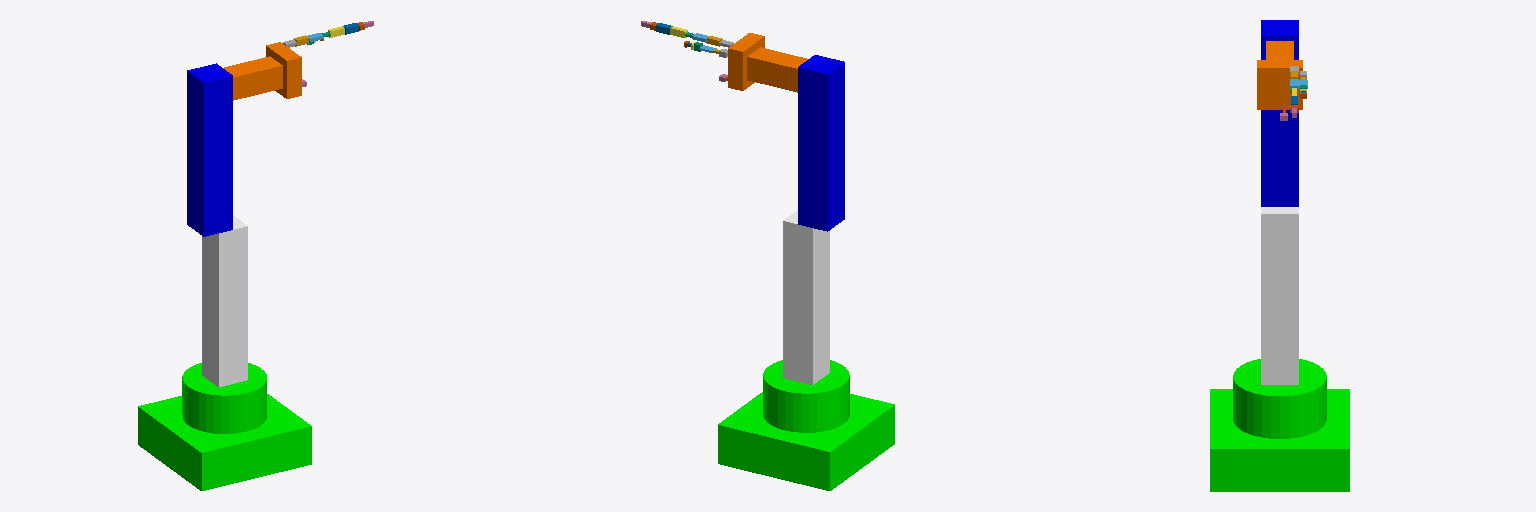
robot.urdf — robot:
<?xml version='1.0' encoding='utf-8'?>
<robot name="robot">
  <link name="base_link">
    <visual>
      <origin xyz="0 0 0.125" rpy="0 0 0" />
      <geometry>
        <box size="0.75 0.75 0.25" />
      </geometry>
      <material name="green" />
    </visual>
    <visual>
      <origin xyz="0 0 0.375" rpy="0 0 0" />
      <geometry>
        <cylinder length="0.25" radius="0.25" />
      </geometry>
      <material name="green">
        <color rgba="0 1 0 1" />
      </material>
    </visual>
    <collision>
      <geometry>
        <box size="0.75 0.75 0.5" />
      </geometry>
    </collision>
    <inertial>
      <mass value="0.5" />
      <inertia ixx="0.034" ixy="0.0" ixz="0.0" iyy="0.034" iyz="0.0" izz="0.034" />
    </inertial>
  </link>
  <link name="support_link">
    <visual>
      <origin xyz="0 0 0.5" rpy="0 0 0" />
      <geometry>
        <box size="0.2 0.2 1" />
      </geometry>
      <material name="white">
        <color rgba="1 1 1 1" />
      </material>
    </visual>
    <collision>
      <geometry>
        <box size="0.2 0.2 1" />
      </geometry>
    </collision>
    <inertial>
      <mass value="0.1" />
      <inertia ixx="0.01" ixy="0.0" ixz="0.0" iyy="0.01" iyz="0.0" izz="0.01" />
    </inertial>
  </link>
  <joint name="support_joint" type="continuous">
    <origin xyz="0 0 0.5" rpy="0 0 0" />
    <parent link="base_link" />
    <child link="support_link" />
    <axis xyz="0 0 1" />
  </joint>
  <link name="arm_link">
    <visual>
      <origin xyz="0 0 0.5" rpy="0 0 0" />
      <geometry>
        <box size="0.2 0.2 1" />
      </geometry>
      <material name="blue">
        <color rgba="0 0 1 1" />
      </material>
    </visual>
    <collision>
      <geometry>
        <box size="0.2 0.2 1" />
      </geometry>
    </collision>
    <inertial>
      <mass value="0.1" />
      <inertia ixx="0.01" ixy="0.0" ixz="0.0" iyy="0.01" iyz="0.0" izz="0.01" />
    </inertial>
  </link>
  <joint name="arm_joint" type="revolute">
    <origin xyz="-0.1 0 1" rpy="0 0 0" />
    <parent link="support_link" />
    <child link="arm_link" />
    <axis xyz="0 1 0" />
    <limit lower="-3.14" upper="3.14" effort="1.0" velocity="1.0" />
  </joint>
  <link name="wrist_link">
    <visual>
      <origin xyz="0 0 0.25" rpy="0 0 0" />
      <geometry>
        <box size="0.15 0.15 0.5" />
      </geometry>
      <material name="orange">
        <color rgba="1 0.5 0 1" />
      </material>
    </visual>
    <collision>
      <geometry>
        <box size="0.15 0.15 0.5" />
      </geometry>
    </collision>
    <inertial>
      <mass value="0.1" />
      <inertia ixx="0.01" ixy="0.0" ixz="0.0" iyy="0.01" iyz="0.0" izz="0.01" />
    </inertial>
  </link>
  <joint name="wrist_joint" type="fixed">
    <origin xyz="0 0 0.9" rpy="0 1.571 0" />
    <parent link="arm_link" />
    <child link="wrist_link" />
  </joint>
  <link name="palm_link">
    <visual>
      <origin xyz="0 0 0.05" rpy="0 0 0" />
      <geometry>
        <box size="0.25 0.25 0.1" />
      </geometry>
      <material name="orange" />
    </visual>
    <collision>
      <geometry>
        <box size="0.25 0.25 0.1" />
      </geometry>
    </collision>
    <inertial>
      <mass value="0.1" />
      <inertia ixx="0.01" ixy="0.0" ixz="0.0" iyy="0.01" iyz="0.0" izz="0.01" />
    </inertial>
  </link>
  <joint name="palm_joint" type="fixed">
    <origin xyz="0 0 0.45" rpy="0 0 0" />
    <parent link="wrist_link" />
    <child link="palm_link" />
  </joint>
  <link name="finger_link_0_0">
    <visual>
      <origin xyz="0 0 0.034" rpy="0 0 0" />
      <geometry>
        <box size="0.015 0.018 0.068" />
      </geometry>
    </visual>
    <collision>
      <geometry>
        <box size="0.015 0.018 0.068" />
      </geometry>
    </collision>
    <inertial>
      <mass value="0.006" />
      <inertia ixx="0.0" iyy="0.0" izz="0.0" ixy="0" ixz="0" iyz="0" />
    </inertial>
  </link>
  <joint name="finger_joint_palm_link_to_finger_link_0_0" type="revolute">
    <origin xyz="0.125 0.023 0.1" rpy="0 0 0" />
    <parent link="palm_link" />
    <child link="finger_link_0_0" />
    <axis xyz="0.0 1.0 0.0" />
    <limit lower="-3.142" upper="3.142" effort="10" velocity="10" />
  </joint>
  <link name="finger_link_0_1">
    <visual>
      <origin xyz="0 0 0.019" rpy="0 0 0" />
      <geometry>
        <box size="0.029 0.043 0.038" />
      </geometry>
    </visual>
    <collision>
      <geometry>
        <box size="0.029 0.043 0.038" />
      </geometry>
    </collision>
    <inertial>
      <mass value="0.014" />
      <inertia ixx="0.0" iyy="0.0" izz="0.0" ixy="0" ixz="0" iyz="0" />
    </inertial>
  </link>
  <joint name="finger_joint_finger_link_0_0_to_finger_link_0_1" type="revolute">
    <origin xyz="0.0 0.0 0.068" rpy="0 0 0" />
    <parent link="finger_link_0_0" />
    <child link="finger_link_0_1" />
    <axis xyz="1.0 0.0 0.0" />
    <limit lower="-3.142" upper="3.142" effort="10" velocity="10" />
  </joint>
  <link name="finger_link_1_0">
    <visual>
      <origin xyz="0 0 0.0365" rpy="0 0 0" />
      <geometry>
        <box size="0.018 0.044 0.073" />
      </geometry>
    </visual>
    <collision>
      <geometry>
        <box size="0.018 0.044 0.073" />
      </geometry>
    </collision>
    <inertial>
      <mass value="0.017" />
      <inertia ixx="0.0" iyy="0.0" izz="0.0" ixy="0" ixz="0" iyz="0" />
    </inertial>
  </link>
  <joint name="finger_joint_palm_link_to_finger_link_1_0" type="revolute">
    <origin xyz="-0.125 0.077 0.1" rpy="0 0 0" />
    <parent link="palm_link" />
    <child link="finger_link_1_0" />
    <axis xyz="0.0 -1.0 0.0" />
    <limit lower="-3.142" upper="3.142" effort="10" velocity="10" />
  </joint>
  <link name="finger_link_1_1">
    <visual>
      <origin xyz="0 0 0.042" rpy="0 0 0" />
      <geometry>
        <box size="0.035 0.037 0.084" />
      </geometry>
    </visual>
    <collision>
      <geometry>
        <box size="0.035 0.037 0.084" />
      </geometry>
    </collision>
    <inertial>
      <mass value="0.033" />
      <inertia ixx="0.0" iyy="0.0" izz="0.0" ixy="0" ixz="0" iyz="0" />
    </inertial>
  </link>
  <joint name="finger_joint_finger_link_1_0_to_finger_link_1_1" type="revolute">
    <origin xyz="0.0 0.0 0.073" rpy="0 0 0" />
    <parent link="finger_link_1_0" />
    <child link="finger_link_1_1" />
    <axis xyz="0.0 1.0 0.0" />
    <limit lower="-3.142" upper="3.142" effort="10" velocity="10" />
  </joint>
  <link name="finger_link_1_2">
    <visual>
      <origin xyz="0 0 0.0475" rpy="0 0 0" />
      <geometry>
        <box size="0.021 0.048 0.095" />
      </geometry>
    </visual>
    <collision>
      <geometry>
        <box size="0.021 0.048 0.095" />
      </geometry>
    </collision>
    <inertial>
      <mass value="0.029" />
      <inertia ixx="0.0" iyy="0.0" izz="0.0" ixy="0" ixz="0" iyz="0" />
    </inertial>
  </link>
  <joint name="finger_joint_finger_link_1_1_to_finger_link_1_2" type="revolute">
    <origin xyz="0.0 0.0 0.084" rpy="0 0 0" />
    <parent link="finger_link_1_1" />
    <child link="finger_link_1_2" />
    <axis xyz="0.0 1.0 0.0" />
    <limit lower="-3.142" upper="3.142" effort="10" velocity="10" />
  </joint>
  <link name="finger_link_1_3">
    <visual>
      <origin xyz="0 0 0.0255" rpy="0 0 0" />
      <geometry>
        <box size="0.013 0.032 0.051" />
      </geometry>
    </visual>
    <collision>
      <geometry>
        <box size="0.013 0.032 0.051" />
      </geometry>
    </collision>
    <inertial>
      <mass value="0.006" />
      <inertia ixx="0.0" iyy="0.0" izz="0.0" ixy="0" ixz="0" iyz="0" />
    </inertial>
  </link>
  <joint name="finger_joint_finger_link_1_2_to_finger_link_1_3" type="revolute">
    <origin xyz="0.0 0.0 0.095" rpy="0 0 0" />
    <parent link="finger_link_1_2" />
    <child link="finger_link_1_3" />
    <axis xyz="1.0 0.0 0.0" />
    <limit lower="-3.142" upper="3.142" effort="10" velocity="10" />
  </joint>
  <link name="finger_link_1_4">
    <visual>
      <origin xyz="0 0 0.05" rpy="0 0 0" />
      <geometry>
        <box size="0.043 0.028 0.1" />
      </geometry>
    </visual>
    <collision>
      <geometry>
        <box size="0.043 0.028 0.1" />
      </geometry>
    </collision>
    <inertial>
      <mass value="0.036" />
      <inertia ixx="0.0" iyy="0.0" izz="0.0" ixy="0" ixz="0" iyz="0" />
    </inertial>
  </link>
  <joint name="finger_joint_finger_link_1_3_to_finger_link_1_4" type="revolute">
    <origin xyz="0.0 0.0 0.051" rpy="0 0 0" />
    <parent link="finger_link_1_3" />
    <child link="finger_link_1_4" />
    <axis xyz="1.0 0.0 0.0" />
    <limit lower="-3.142" upper="3.142" effort="10" velocity="10" />
  </joint>
  <link name="finger_link_1_5">
    <visual>
      <origin xyz="0 0 0.047" rpy="0 0 0" />
      <geometry>
        <box size="0.041 0.041 0.094" />
      </geometry>
    </visual>
    <collision>
      <geometry>
        <box size="0.041 0.041 0.094" />
      </geometry>
    </collision>
    <inertial>
      <mass value="0.047" />
      <inertia ixx="0.0" iyy="0.0" izz="0.0" ixy="0" ixz="0" iyz="0" />
    </inertial>
  </link>
  <joint name="finger_joint_finger_link_1_4_to_finger_link_1_5" type="revolute">
    <origin xyz="0.0 0.0 0.1" rpy="0 0 0" />
    <parent link="finger_link_1_4" />
    <child link="finger_link_1_5" />
    <axis xyz="0.0 1.0 0.0" />
    <limit lower="-3.142" upper="3.142" effort="10" velocity="10" />
  </joint>
  <link name="finger_link_1_6">
    <visual>
      <origin xyz="0 0 0.02" rpy="0 0 0" />
      <geometry>
        <box size="0.031 0.044 0.04" />
      </geometry>
    </visual>
    <collision>
      <geometry>
        <box size="0.031 0.044 0.04" />
      </geometry>
    </collision>
    <inertial>
      <mass value="0.016" />
      <inertia ixx="0.0" iyy="0.0" izz="0.0" ixy="0" ixz="0" iyz="0" />
    </inertial>
  </link>
  <joint name="finger_joint_finger_link_1_5_to_finger_link_1_6" type="revolute">
    <origin xyz="0.0 0.0 0.094" rpy="0 0 0" />
    <parent link="finger_link_1_5" />
    <child link="finger_link_1_6" />
    <axis xyz="1.0 0.0 0.0" />
    <limit lower="-3.142" upper="3.142" effort="10" velocity="10" />
  </joint>
  <link name="finger_link_1_7">
    <visual>
      <origin xyz="0 0 0.0325" rpy="0 0 0" />
      <geometry>
        <box size="0.026 0.024 0.065" />
      </geometry>
    </visual>
    <collision>
      <geometry>
        <box size="0.026 0.024 0.065" />
      </geometry>
    </collision>
    <inertial>
      <mass value="0.012" />
      <inertia ixx="0.0" iyy="0.0" izz="0.0" ixy="0" ixz="0" iyz="0" />
    </inertial>
  </link>
  <joint name="finger_joint_finger_link_1_6_to_finger_link_1_7" type="revolute">
    <origin xyz="0.0 0.0 0.04" rpy="0 0 0" />
    <parent link="finger_link_1_6" />
    <child link="finger_link_1_7" />
    <axis xyz="1.0 0.0 0.0" />
    <limit lower="-3.142" upper="3.142" effort="10" velocity="10" />
  </joint>
  <link name="finger_link_2_0">
    <visual>
      <origin xyz="0 0 0.023" rpy="0 0 0" />
      <geometry>
        <box size="0.035 0.04 0.046" />
      </geometry>
    </visual>
    <collision>
      <geometry>
        <box size="0.035 0.04 0.046" />
      </geometry>
    </collision>
    <inertial>
      <mass value="0.019" />
      <inertia ixx="0.0" iyy="0.0" izz="0.0" ixy="0" ixz="0" iyz="0" />
    </inertial>
  </link>
  <joint name="finger_joint_palm_link_to_finger_link_2_0" type="revolute">
    <origin xyz="-0.088 0.125 0.1" rpy="0 0 0" />
    <parent link="palm_link" />
    <child link="finger_link_2_0" />
    <axis xyz="-1.0 0.0 0.0" />
    <limit lower="-3.142" upper="3.142" effort="10" velocity="10" />
  </joint>
  <link name="finger_link_2_1">
    <visual>
      <origin xyz="0 0 0.0215" rpy="0 0 0" />
      <geometry>
        <box size="0.014 0.027 0.043" />
      </geometry>
    </visual>
    <collision>
      <geometry>
        <box size="0.014 0.027 0.043" />
      </geometry>
    </collision>
    <inertial>
      <mass value="0.005" />
      <inertia ixx="0.0" iyy="0.0" izz="0.0" ixy="0" ixz="0" iyz="0" />
    </inertial>
  </link>
  <joint name="finger_joint_finger_link_2_0_to_finger_link_2_1" type="revolute">
    <origin xyz="0.0 0.0 0.046" rpy="0 0 0" />
    <parent link="finger_link_2_0" />
    <child link="finger_link_2_1" />
    <axis xyz="1.0 0.0 0.0" />
    <limit lower="-3.142" upper="3.142" effort="10" velocity="10" />
  </joint>
  <link name="finger_link_2_2">
    <visual>
      <origin xyz="0 0 0.0445" rpy="0 0 0" />
      <geometry>
        <box size="0.013 0.047 0.089" />
      </geometry>
    </visual>
    <collision>
      <geometry>
        <box size="0.013 0.047 0.089" />
      </geometry>
    </collision>
    <inertial>
      <mass value="0.016" />
      <inertia ixx="0.0" iyy="0.0" izz="0.0" ixy="0" ixz="0" iyz="0" />
    </inertial>
  </link>
  <joint name="finger_joint_finger_link_2_1_to_finger_link_2_2" type="revolute">
    <origin xyz="0.0 0.0 0.043" rpy="0 0 0" />
    <parent link="finger_link_2_1" />
    <child link="finger_link_2_2" />
    <axis xyz="0.0 1.0 0.0" />
    <limit lower="-3.142" upper="3.142" effort="10" velocity="10" />
  </joint>
  <link name="finger_link_2_3">
    <visual>
      <origin xyz="0 0 0.0205" rpy="0 0 0" />
      <geometry>
        <box size="0.042 0.033 0.041" />
      </geometry>
    </visual>
    <collision>
      <geometry>
        <box size="0.042 0.033 0.041" />
      </geometry>
    </collision>
    <inertial>
      <mass value="0.017" />
      <inertia ixx="0.0" iyy="0.0" izz="0.0" ixy="0" ixz="0" iyz="0" />
    </inertial>
  </link>
  <joint name="finger_joint_finger_link_2_2_to_finger_link_2_3" type="revolute">
    <origin xyz="0.0 0.0 0.089" rpy="0 0 0" />
    <parent link="finger_link_2_2" />
    <child link="finger_link_2_3" />
    <axis xyz="1.0 0.0 0.0" />
    <limit lower="-3.142" upper="3.142" effort="10" velocity="10" />
  </joint>
  <link name="finger_link_2_4">
    <visual>
      <origin xyz="0 0 0.007" rpy="0 0 0" />
      <geometry>
        <box size="0.033 0.04 0.014" />
      </geometry>
    </visual>
    <collision>
      <geometry>
        <box size="0.033 0.04 0.014" />
      </geometry>
    </collision>
    <inertial>
      <mass value="0.006" />
      <inertia ixx="0.0" iyy="0.0" izz="0.0" ixy="0" ixz="0" iyz="0" />
    </inertial>
  </link>
  <joint name="finger_joint_finger_link_2_3_to_finger_link_2_4" type="revolute">
    <origin xyz="0.0 0.0 0.041" rpy="0 0 0" />
    <parent link="finger_link_2_3" />
    <child link="finger_link_2_4" />
    <axis xyz="1.0 0.0 0.0" />
    <limit lower="-3.142" upper="3.142" effort="10" velocity="10" />
  </joint>
  <link name="finger_link_2_5">
    <visual>
      <origin xyz="0 0 0.0155" rpy="0 0 0" />
      <geometry>
        <box size="0.014 0.024 0.031" />
      </geometry>
    </visual>
    <collision>
      <geometry>
        <box size="0.014 0.024 0.031" />
      </geometry>
    </collision>
    <inertial>
      <mass value="0.003" />
      <inertia ixx="0.0" iyy="0.0" izz="0.0" ixy="0" ixz="0" iyz="0" />
    </inertial>
  </link>
  <joint name="finger_joint_finger_link_2_4_to_finger_link_2_5" type="revolute">
    <origin xyz="0.0 0.0 0.014" rpy="0 0 0" />
    <parent link="finger_link_2_4" />
    <child link="finger_link_2_5" />
    <axis xyz="1.0 0.0 0.0" />
    <limit lower="-3.142" upper="3.142" effort="10" velocity="10" />
  </joint>
  <link name="finger_link_2_6">
    <visual>
      <origin xyz="0 0 0.0105" rpy="0 0 0" />
      <geometry>
        <box size="0.028 0.035 0.021" />
      </geometry>
    </visual>
    <collision>
      <geometry>
        <box size="0.028 0.035 0.021" />
      </geometry>
    </collision>
    <inertial>
      <mass value="0.006" />
      <inertia ixx="0.0" iyy="0.0" izz="0.0" ixy="0" ixz="0" iyz="0" />
    </inertial>
  </link>
  <joint name="finger_joint_finger_link_2_5_to_finger_link_2_6" type="revolute">
    <origin xyz="0.0 0.0 0.031" rpy="0 0 0" />
    <parent link="finger_link_2_5" />
    <child link="finger_link_2_6" />
    <axis xyz="0.0 1.0 0.0" />
    <limit lower="-3.142" upper="3.142" effort="10" velocity="10" />
  </joint>
</robot>

--- Facts derived from the render (not from the file) ---
Views: 3 orthographic renders of the robot side by side, from view 1: azimuth 30°, elevation 25°; view 2: azimuth 150°, elevation 25°; view 3: azimuth 270°, elevation 25°.
Model robot with 22 links and 21 joints (18 revolute, 1 continuous, 2 fixed), rooted at base_link, posed all joints at 0.
Visible links, largest first — view 1: base_link, arm_link, support_link, wrist_link, palm_link; view 2: base_link, arm_link, support_link, wrist_link, palm_link; view 3: base_link, support_link, arm_link, palm_link, wrist_link.
Boxes of the visible links, left/top/right/bottom form: base_link: left=138, top=363, right=311, bottom=490; arm_link: left=187, top=63, right=232, bottom=236; support_link: left=202, top=216, right=247, bottom=386; wrist_link: left=223, top=56, right=282, bottom=100; palm_link: left=266, top=42, right=301, bottom=98; base_link: left=718, top=360, right=894, bottom=490; arm_link: left=798, top=55, right=844, bottom=231; support_link: left=783, top=210, right=829, bottom=384; wrist_link: left=747, top=47, right=807, bottom=92; palm_link: left=728, top=33, right=764, bottom=90; base_link: left=1210, top=359, right=1349, bottom=491; support_link: left=1261, top=207, right=1298, bottom=384; arm_link: left=1261, top=20, right=1298, bottom=206; palm_link: left=1257, top=60, right=1302, bottom=109; wrist_link: left=1266, top=41, right=1293, bottom=59.
Bounding box of the posed robot: 1.43 × 0.75 × 2.55 m (x, y, z).
Geometry: primitives only (box / cylinder / sphere), no mesh files.